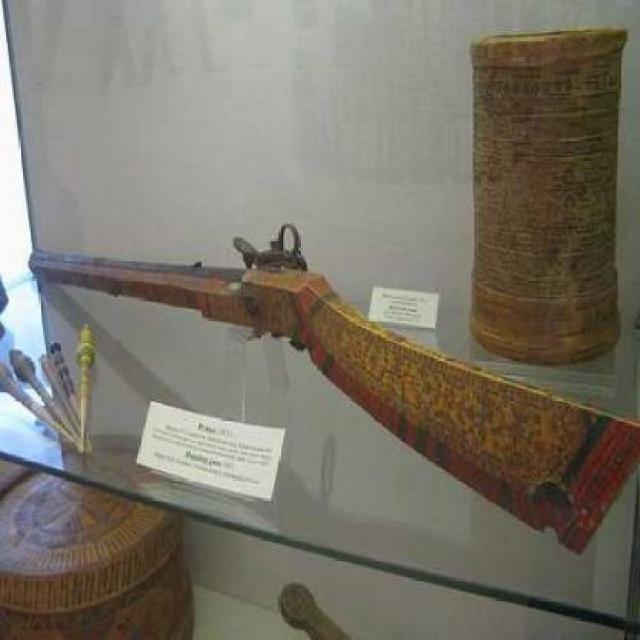weapon: (19, 225, 640, 561)
